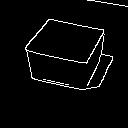cube: (17, 12, 116, 95)
